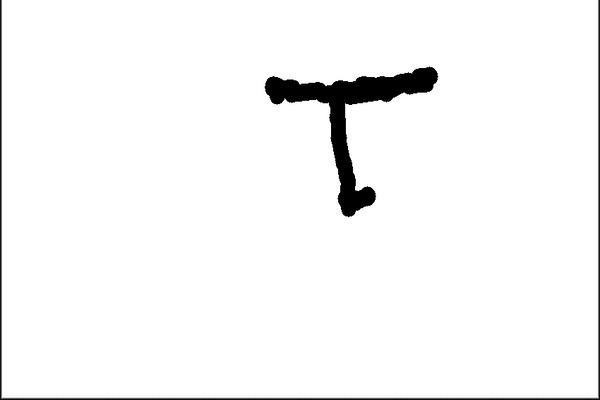T: (261, 65, 452, 221)
